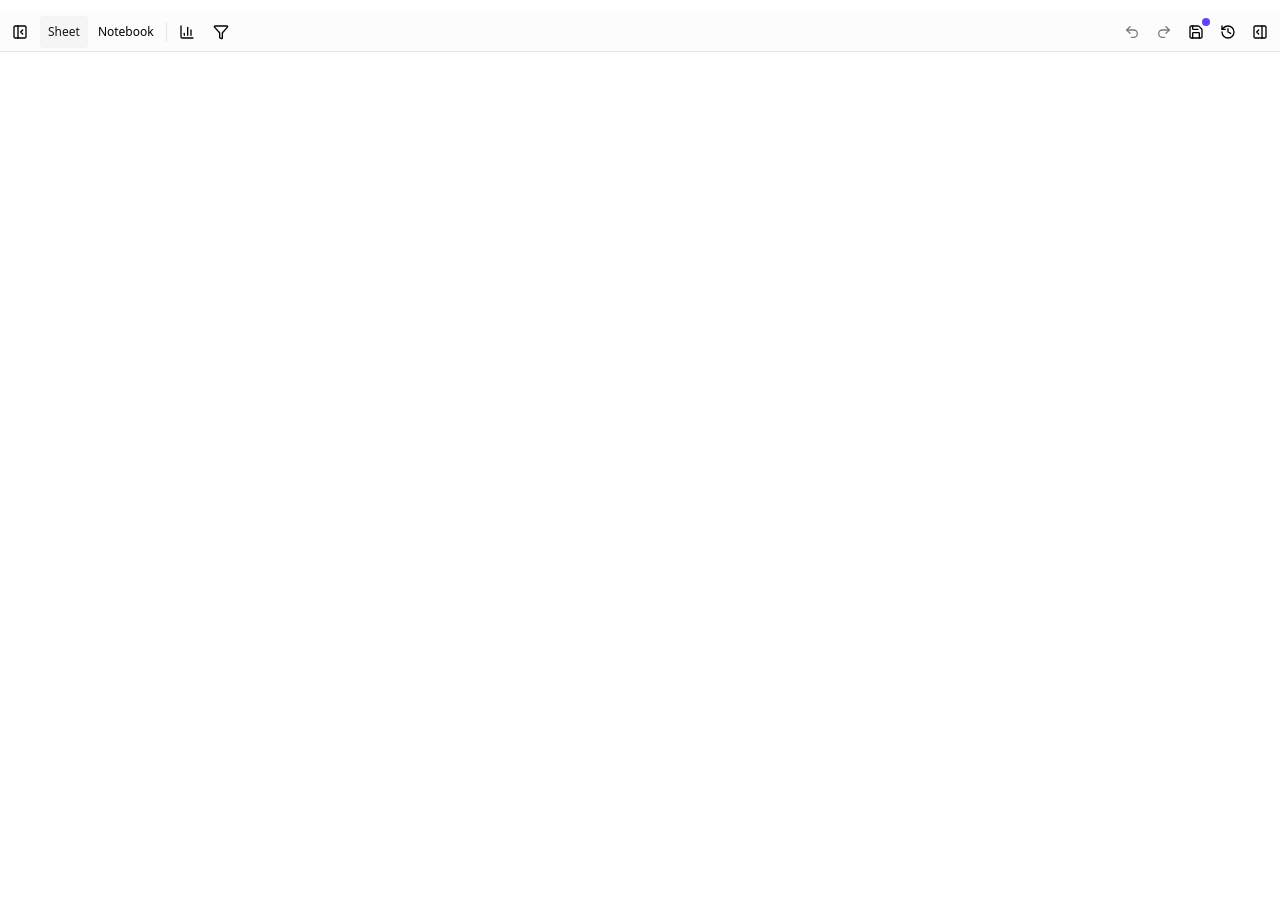
Test case: TabManager save › stops saving and shows an error toast when saveFile returns false
The width and height of the screenshot is (1280, 912).
What coordinates should you click on to do the following:
click the button named "Save"
I would click on:
 (1196, 32)
Its box is [1180, 16, 1212, 48].
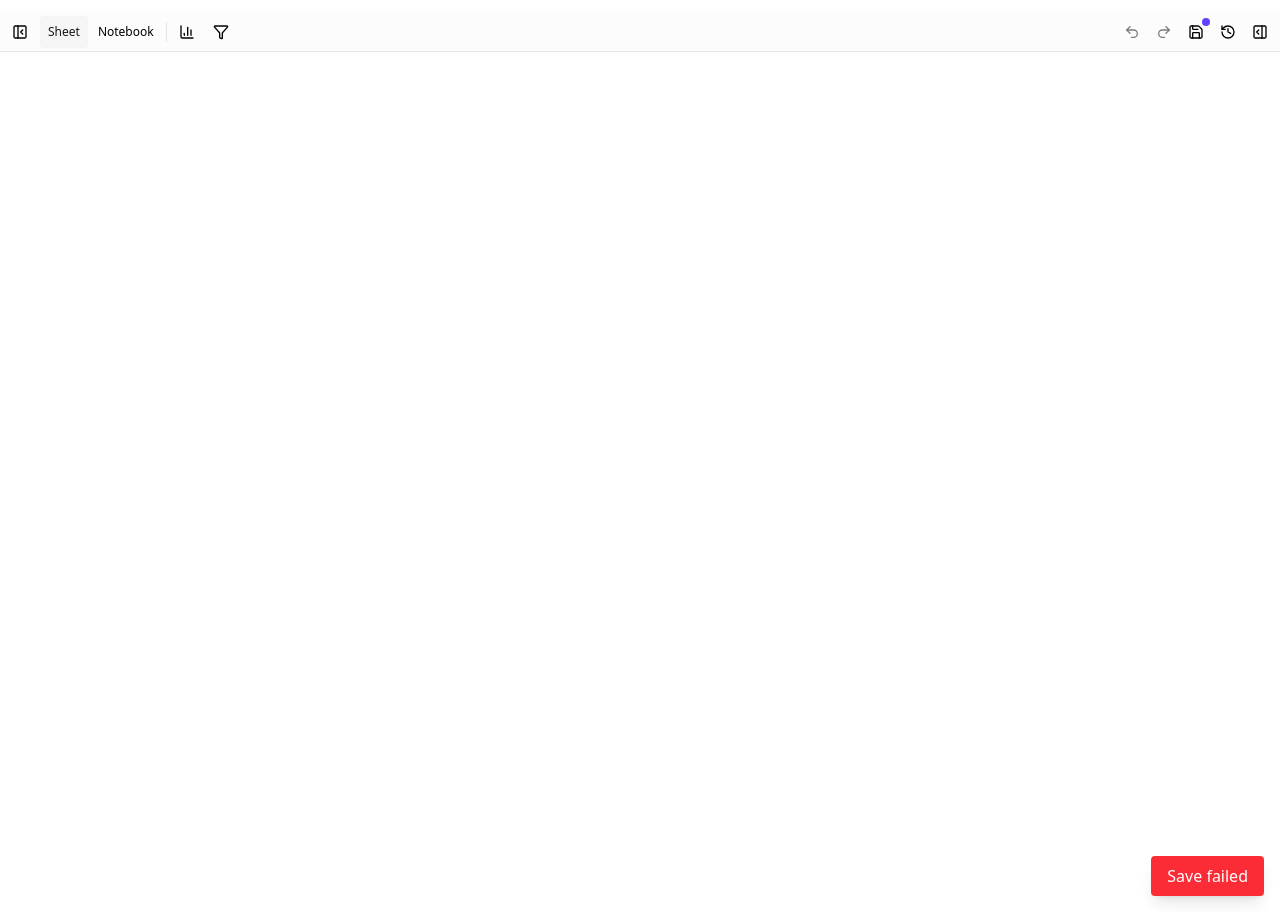
Result: the text "Save failed" is shown at [1151, 856, 1264, 896]
